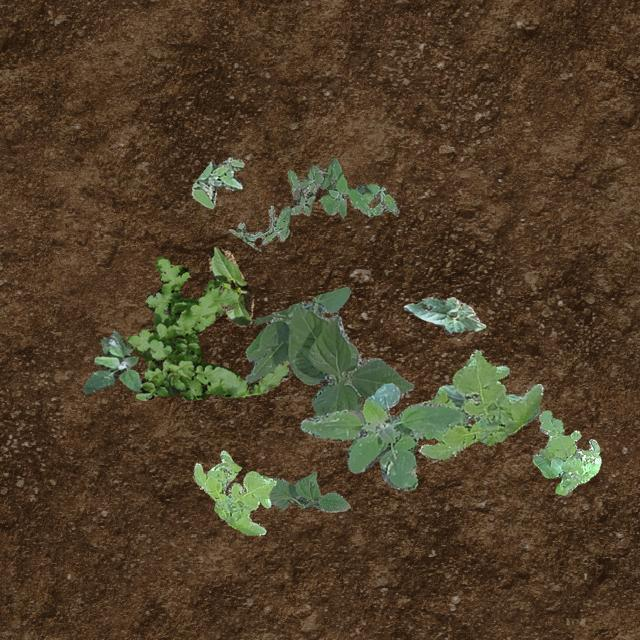crop: (243, 286, 412, 416), (434, 383, 540, 422), (208, 246, 252, 326), (266, 472, 350, 512), (402, 296, 484, 332)
weed: (124, 256, 290, 399), (298, 382, 464, 489), (418, 348, 542, 458), (286, 156, 398, 218), (192, 450, 274, 534), (532, 409, 600, 494), (82, 330, 140, 392), (227, 204, 289, 248), (190, 156, 242, 208)
